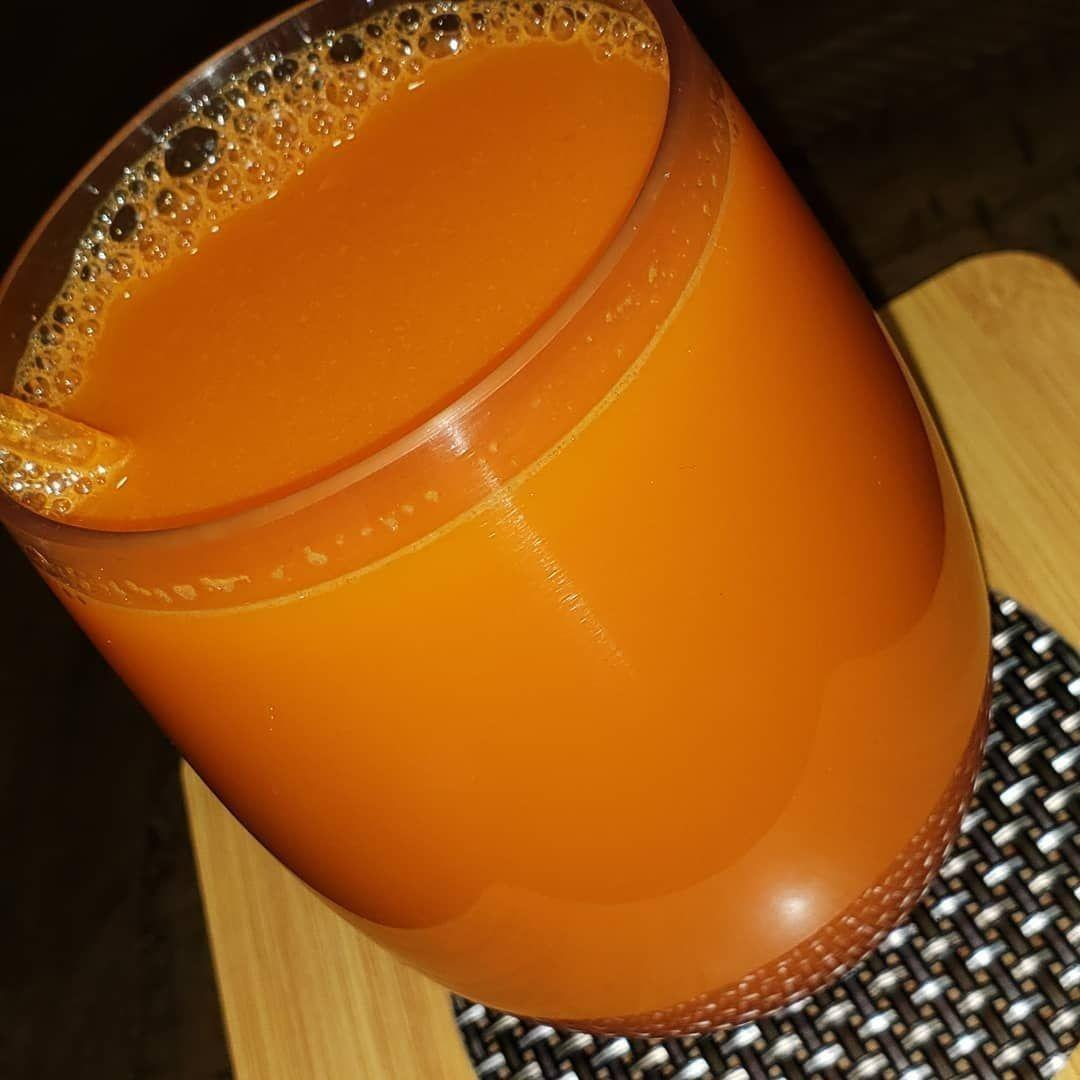glass-normal: (1, 1, 1080, 1049)
